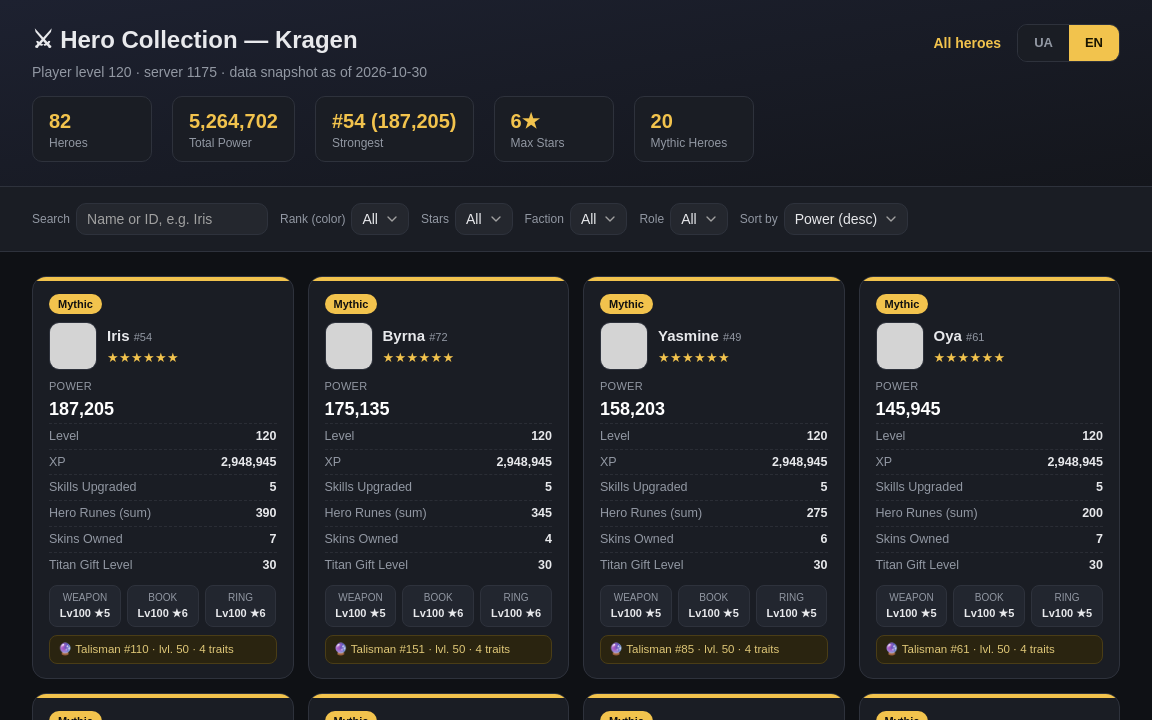
Test case: shows a message when nothing matches
The width and height of the screenshot is (1152, 720).
In the field: (172, 219) [76, 203, 268, 235], type "zzzzzz"
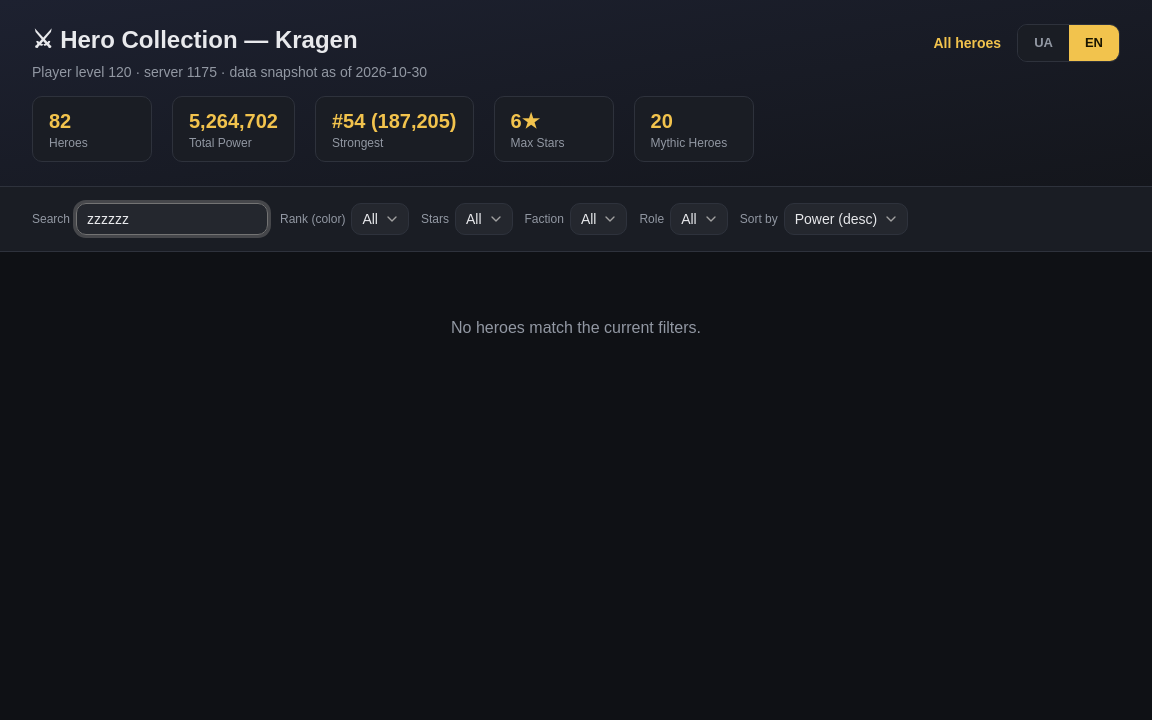
Result: the text "No heroes match the current filters." is shown at [451, 319, 701, 336]
